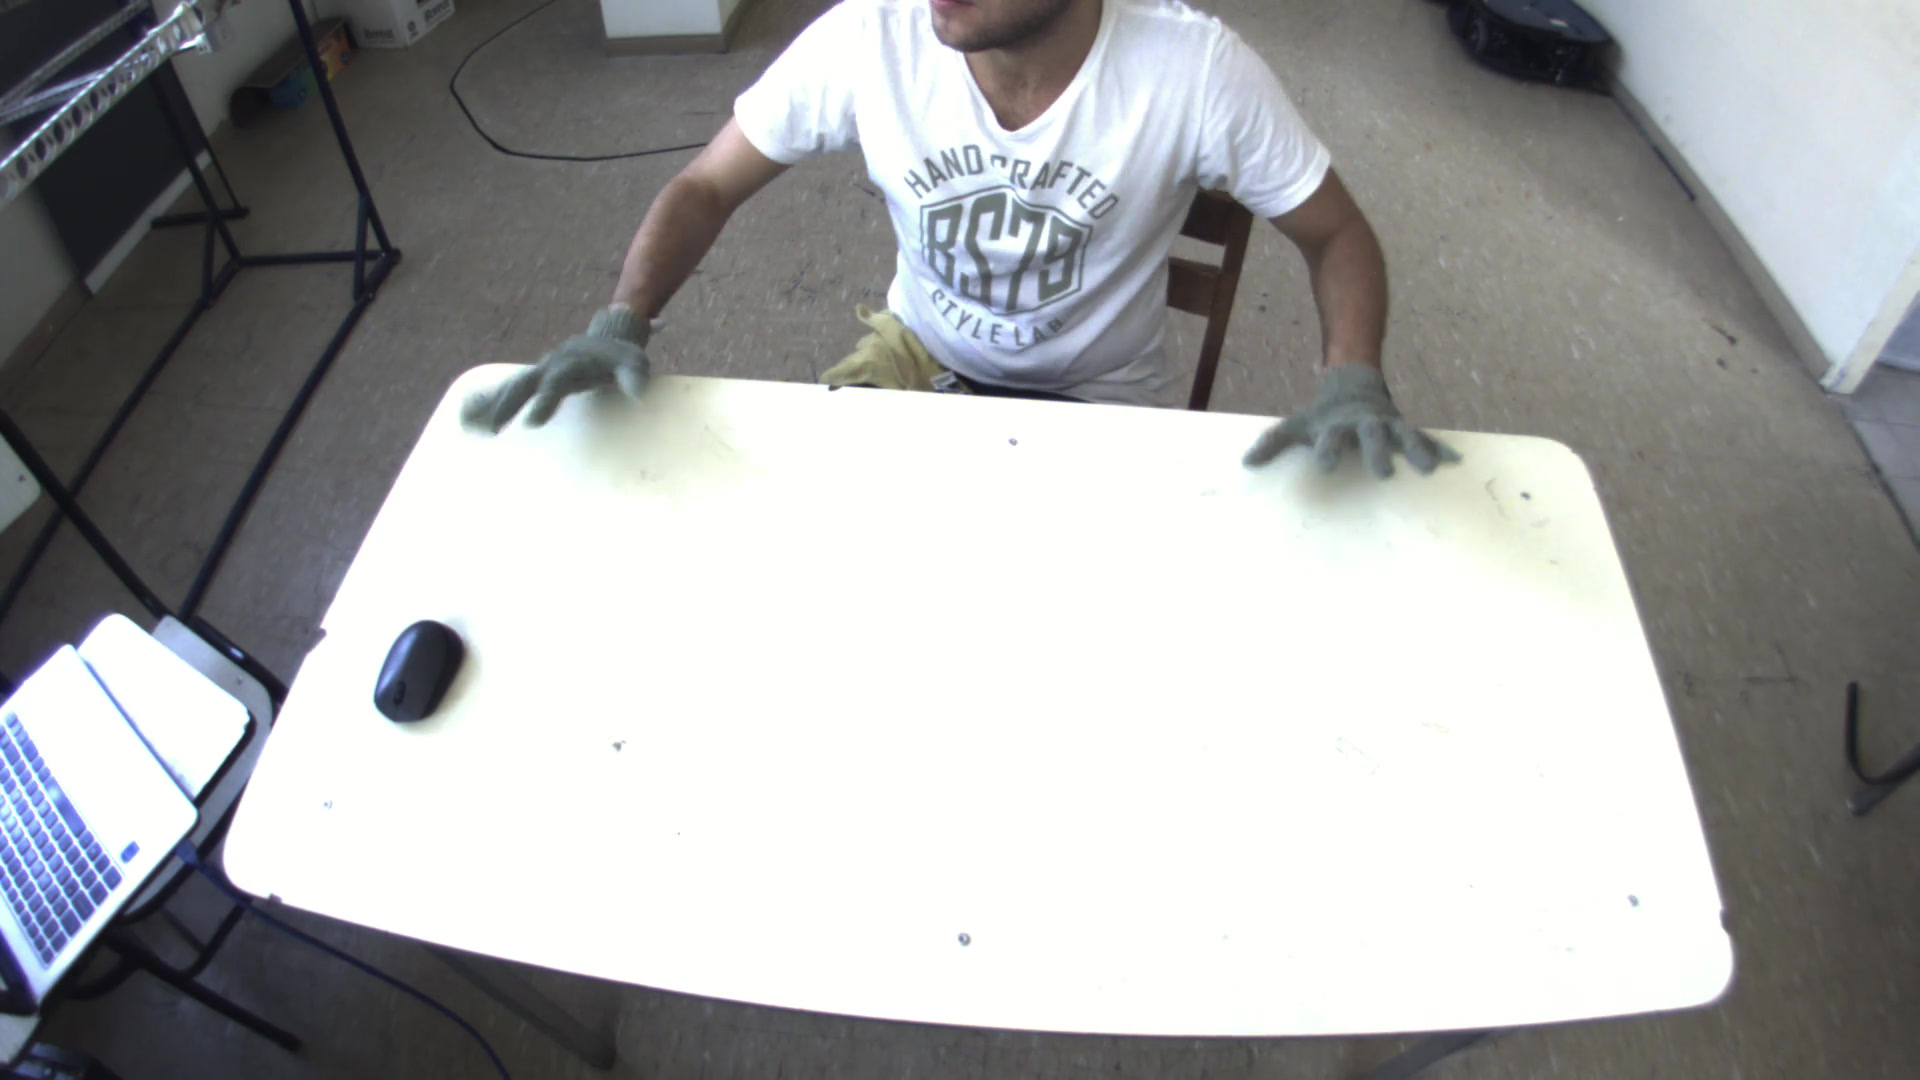hand: (443, 289, 669, 444), (1240, 353, 1458, 483)
